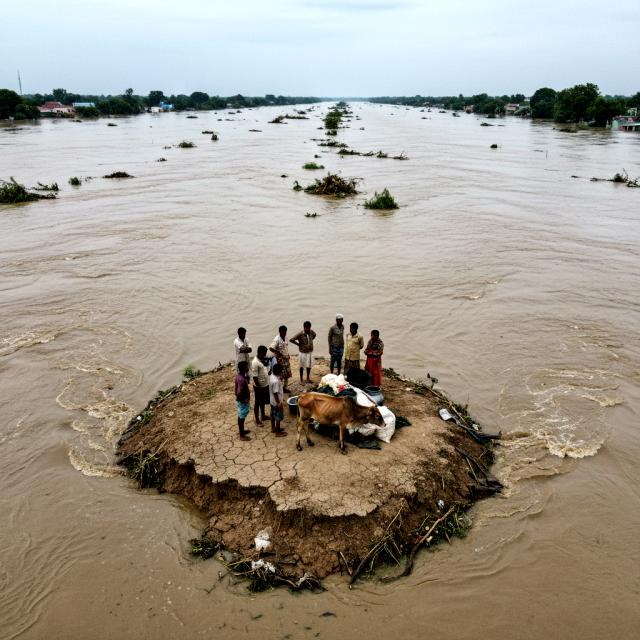civilian: (229, 356, 256, 445), (266, 363, 292, 445), (272, 324, 300, 398), (359, 326, 389, 395), (294, 319, 320, 389), (250, 342, 272, 422), (233, 326, 258, 392), (340, 317, 362, 387), (326, 310, 347, 380)
cow: (288, 390, 395, 460)
